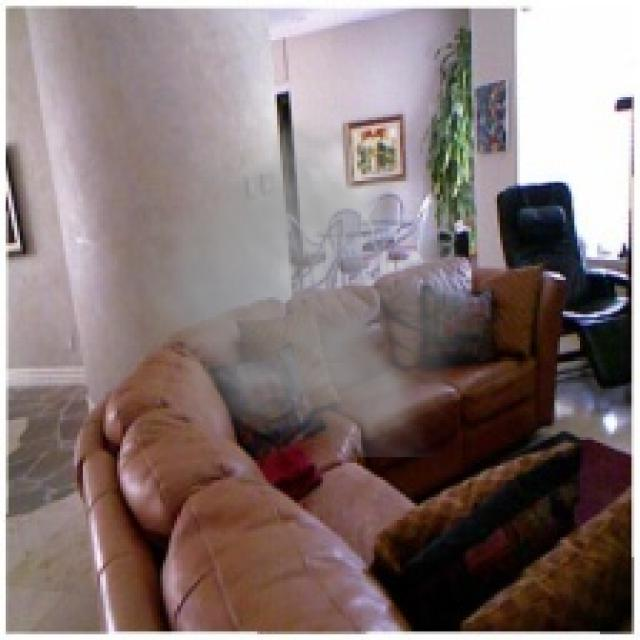smoke: (111, 80, 503, 457)
